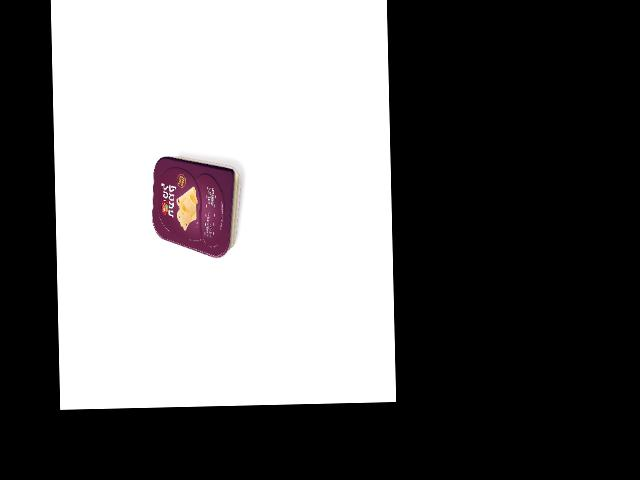cheese: (150, 154, 242, 259)
